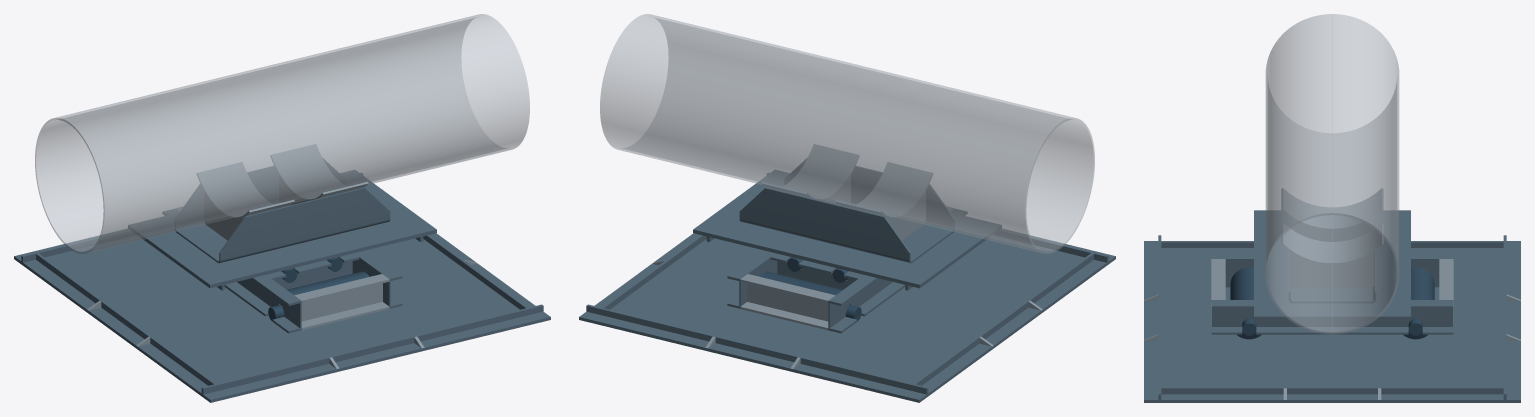
File: TS-628.00.000-11-opora-dn426-hod400.glb
3 views of the same model, side by side, from view 1: azimuth 30°, elevation 25°; view 2: azimuth 150°, elevation 25°; view 3: azimuth 270°, elevation 25° (orthographic). The views are drawn at different scales.
Parts seen in each view (by area): view 1: truba, plita_niz_osnovanie_0, korpus_skoba_56, plita_verh_osnovanie_47, karetka_rebro_shveller_15, plita_niz_polosa2_7, korpus_podushka_61, korpus_podushka_62, karetka_shveller_prodolnyj_13, plita_niz_polosa3_8, karetka_shveller_poperechnyj_14, karetka_shveller_prodolnyj_16 (+3 smaller); view 2: truba, plita_niz_osnovanie_0, korpus_skoba_56, plita_verh_osnovanie_47, karetka_rebro_shveller_18, plita_niz_polosa2_1, korpus_podushka_61, korpus_podushka_62, karetka_shveller_prodolnyj_13, plita_niz_polosa3_8, karetka_shveller_poperechnyj_17, karetka_shveller_prodolnyj_16 (+3 smaller); view 3: truba, plita_niz_osnovanie_0, plita_verh_osnovanie_47, karetka_shveller_prodolnyj_16, plita_niz_polosa3_2, korpus_podushka_62, korpus_rebro3_60, korpus_podushka_61, korpus_skoba_56, karetka_shveller_prodolnyj_13, plita_niz_polosa3_8, korpus_rebro3_58 (+4 smaller).
Boxes of the visible parts, x1=… form: truba: x1=35, y1=14, x2=529, y2=253; plita_niz_osnovanie_0: x1=14, y1=229, x2=550, y2=402; korpus_skoba_56: x1=175, y1=159, x2=390, y2=263; plita_verh_osnovanie_47: x1=128, y1=170, x2=436, y2=288; karetka_rebro_shveller_15: x1=294, y1=274, x2=389, y2=330; plita_niz_polosa2_7: x1=201, y1=304, x2=543, y2=394; korpus_podushka_61: x1=197, y1=162, x2=294, y2=219; korpus_podushka_62: x1=271, y1=144, x2=368, y2=200; karetka_shveller_prodolnyj_13: x1=162, y1=209, x2=301, y2=333; plita_niz_polosa3_8: x1=36, y1=253, x2=216, y2=385; karetka_shveller_poperechnyj_14: x1=266, y1=253, x2=359, y2=289; karetka_shveller_prodolnyj_16: x1=352, y1=250, x2=402, y2=308; truba: x1=600, y1=14, x2=1094, y2=253; plita_niz_osnovanie_0: x1=579, y1=229, x2=1115, y2=402; korpus_skoba_56: x1=739, y1=159, x2=954, y2=263; plita_verh_osnovanie_47: x1=693, y1=170, x2=1001, y2=288; karetka_rebro_shveller_18: x1=740, y1=274, x2=835, y2=330; plita_niz_polosa2_1: x1=586, y1=304, x2=928, y2=394; korpus_podushka_61: x1=835, y1=162, x2=932, y2=219; korpus_podushka_62: x1=761, y1=144, x2=858, y2=200; karetka_shveller_prodolnyj_13: x1=828, y1=209, x2=967, y2=333; plita_niz_polosa3_8: x1=913, y1=253, x2=1093, y2=385; karetka_shveller_poperechnyj_17: x1=770, y1=253, x2=863, y2=289; karetka_shveller_prodolnyj_16: x1=727, y1=250, x2=777, y2=308; truba: x1=1265, y1=14, x2=1399, y2=334; plita_niz_osnovanie_0: x1=1144, y1=241, x2=1520, y2=402; plita_verh_osnovanie_47: x1=1254, y1=210, x2=1410, y2=319; karetka_shveller_prodolnyj_16: x1=1211, y1=300, x2=1453, y2=334; plita_niz_polosa3_2: x1=1161, y1=387, x2=1503, y2=394; korpus_podushka_62: x1=1281, y1=223, x2=1383, y2=264; korpus_rebro3_60: x1=1290, y1=252, x2=1374, y2=288; korpus_podushka_61: x1=1281, y1=188, x2=1383, y2=230; korpus_skoba_56: x1=1288, y1=217, x2=1376, y2=303; karetka_shveller_prodolnyj_13: x1=1211, y1=253, x2=1453, y2=287; plita_niz_polosa3_8: x1=1161, y1=241, x2=1503, y2=247; korpus_rebro3_58: x1=1291, y1=218, x2=1373, y2=241.
Size of the model in its own units: 1500 by 737 by 1200.
